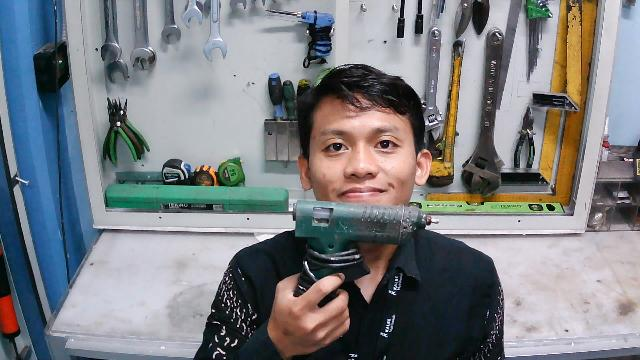gun_lem: (288, 198, 439, 313)
